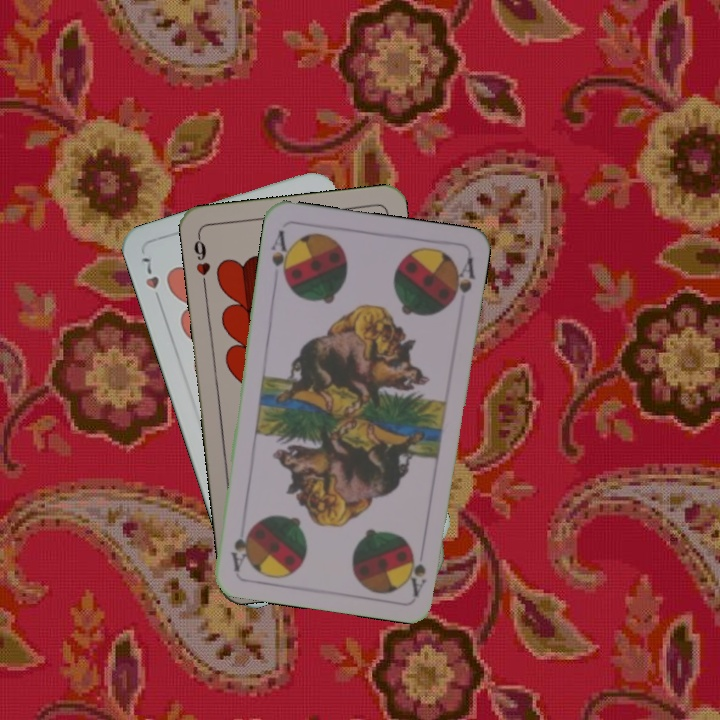H7: (137, 251, 165, 308)
H9: (189, 231, 213, 290)
SA: (266, 226, 294, 285), (406, 547, 429, 598)
